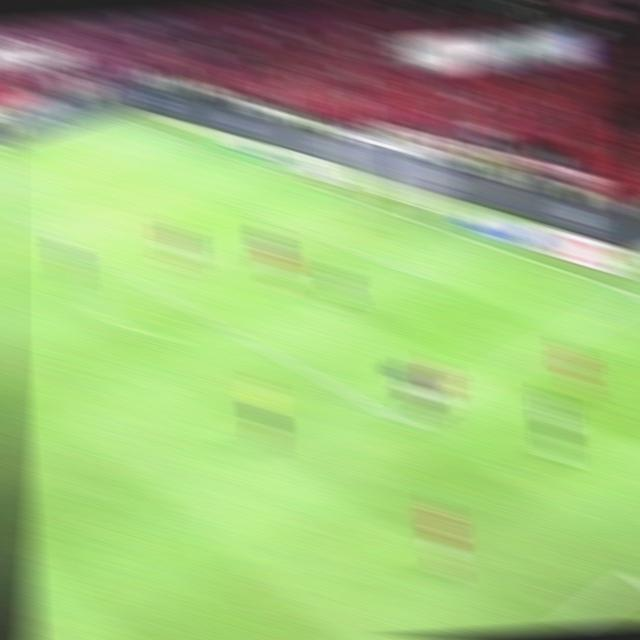bigarea_bottom_inner: (387, 410, 417, 433)
bigarea_bottom_outter: (623, 284, 640, 305)
bigarea_top_inner: (4, 205, 27, 223)
bigarea_top_outter: (194, 141, 225, 162)
bottom_arc_area_intersection: (226, 325, 254, 344)
corner: (108, 113, 131, 125)
smallarea_bottom_inner: (401, 261, 429, 284)
smallarea_bottom_outter: (468, 236, 495, 252)
smallarea_top_inner: (225, 195, 250, 211)
smallarea_top_outter: (276, 168, 313, 194)
top_arc_area_intersection: (94, 254, 117, 272)
